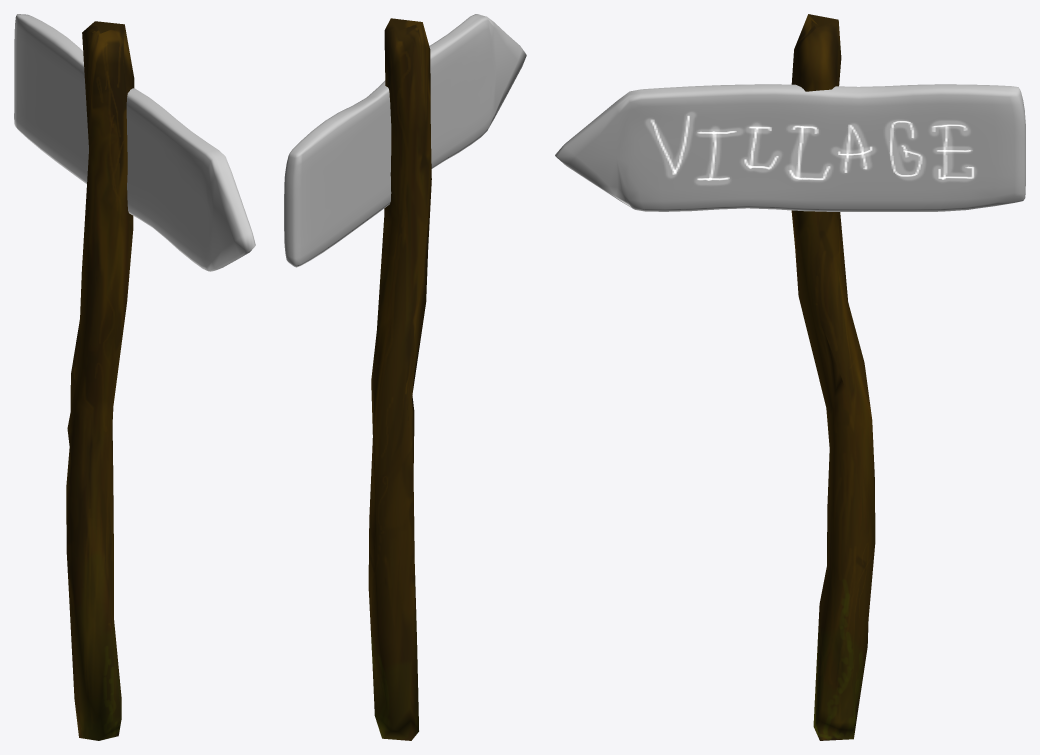
File: signpost.fbx
3 views of the same model, side by side, from view 1: azimuth 30°, elevation 25°; view 2: azimuth 150°, elevation 25°; view 3: azimuth 270°, elevation 25° (orthographic).
Visible parts, largest first — view 1: Plane; view 2: Plane; view 3: Plane.
Part boxes in pixels (<box>): Plane: <box>14,14,255,740</box>; Plane: <box>284,14,526,740</box>; Plane: <box>555,14,1025,740</box>.
Size of the model in its own units: 52.16 by 712 by 423.
